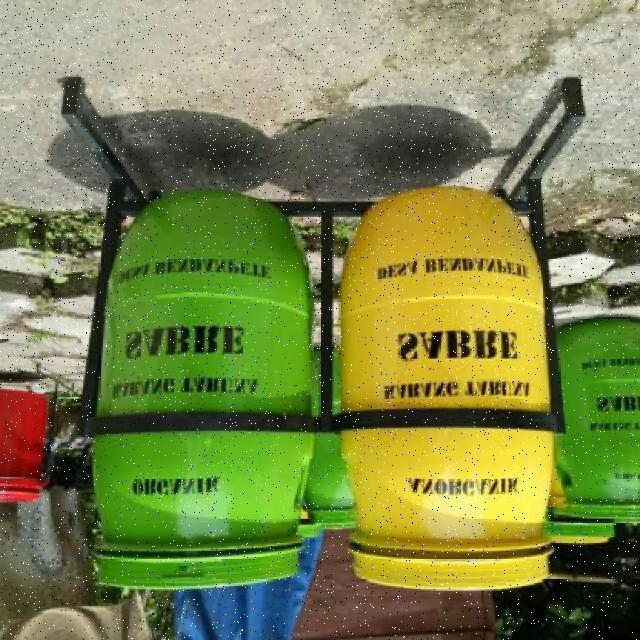garbage container: (338, 160, 571, 614), (77, 173, 317, 598)
